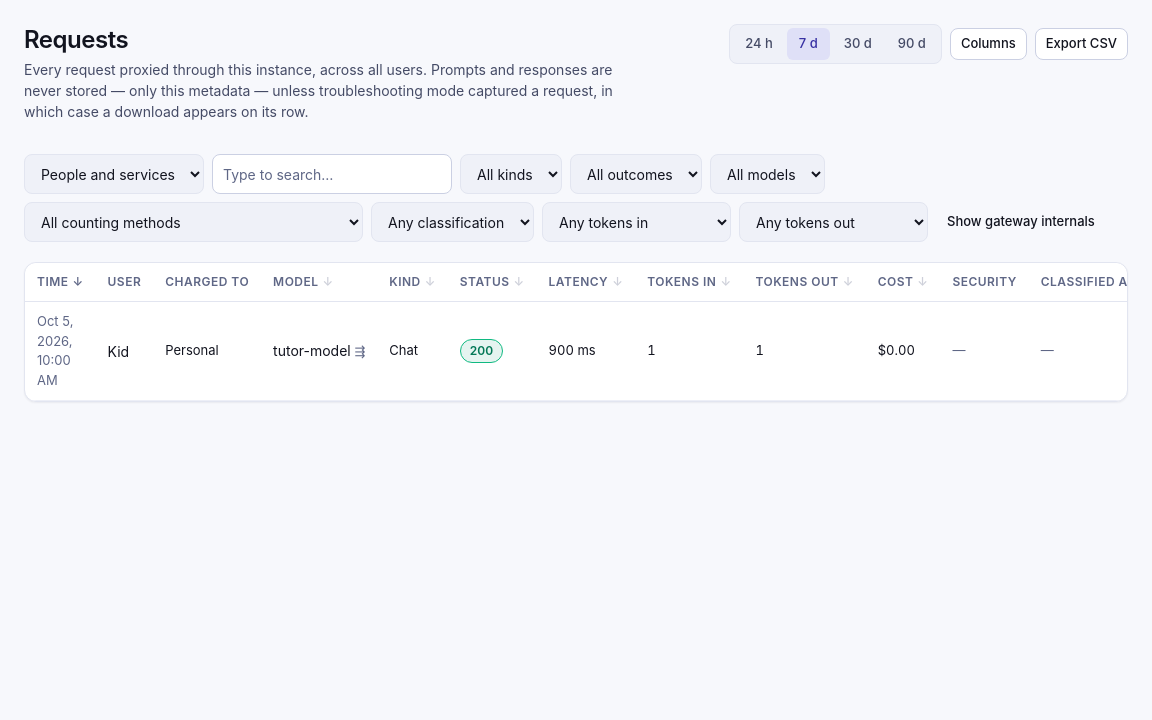
request log — classification › shows that router instructions were added to a routed request
Click the cell "Kid" at (124, 351), box left=96, top=302, right=153, bottom=401
(page scrolled)
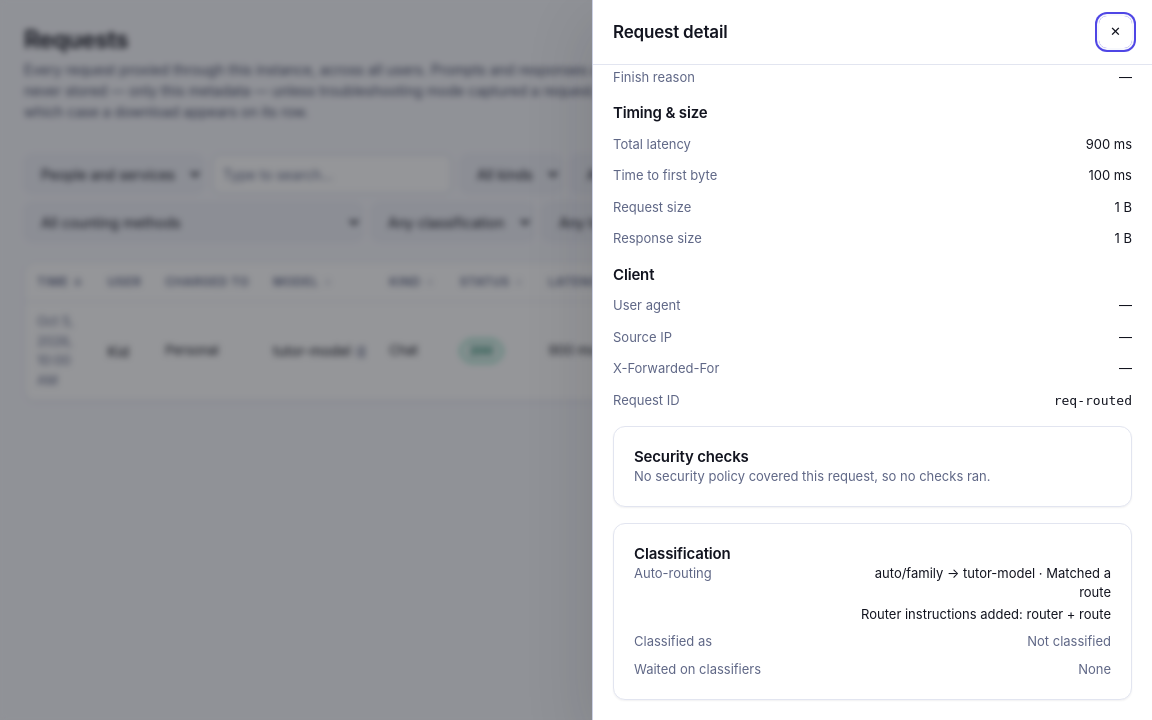
Check: the text "auto/family → tutor-model · Matched a route" is shown, box left=841, top=564, right=1111, bottom=602
Check: the text "Router instructions added: router + route" is shown, box left=841, top=604, right=1111, bottom=624
